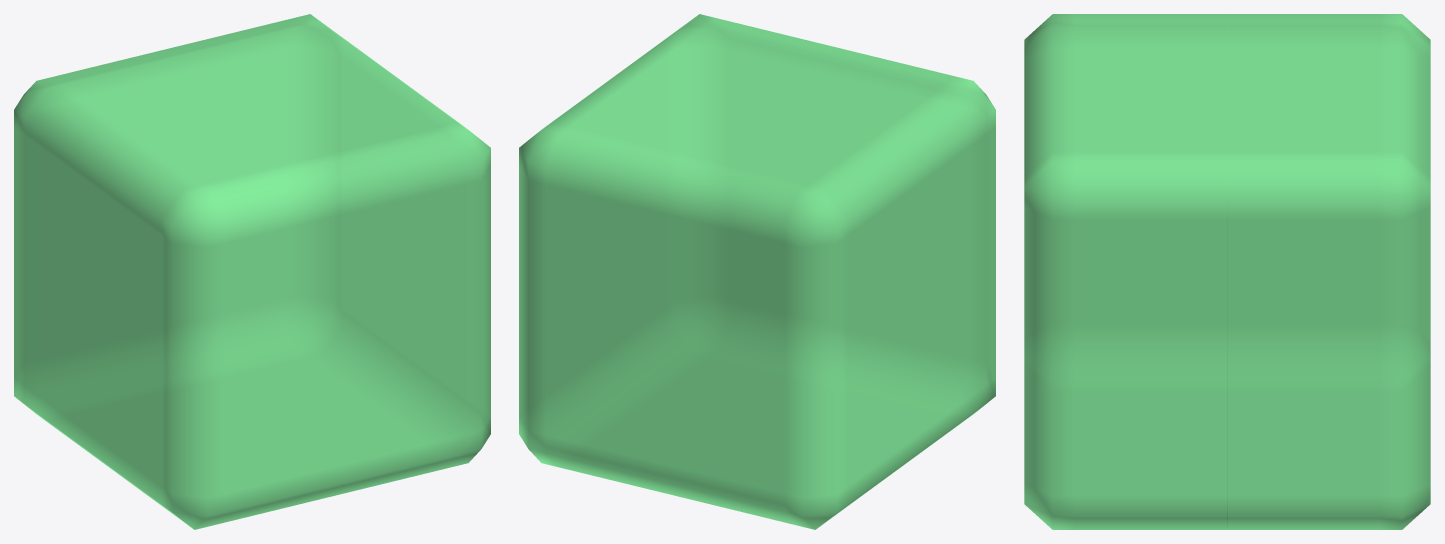
The picture shows the model from 3 angles, left to right: view 1: azimuth 30°, elevation 25°; view 2: azimuth 150°, elevation 25°; view 3: azimuth 270°, elevation 25°; orthographic projection. The views are drawn at different scales.
Parts seen in each view (by area): view 1: Cube; view 2: Cube; view 3: Cube.
Part boxes in pixels (x1,y1,x2,y2): Cube: (14, 14, 490, 529); Cube: (519, 14, 995, 529); Cube: (1024, 14, 1430, 529).
Size of the model in its own units: 1.1 by 1.1 by 1.1.
Materials: 1 (1 with a texture image).
